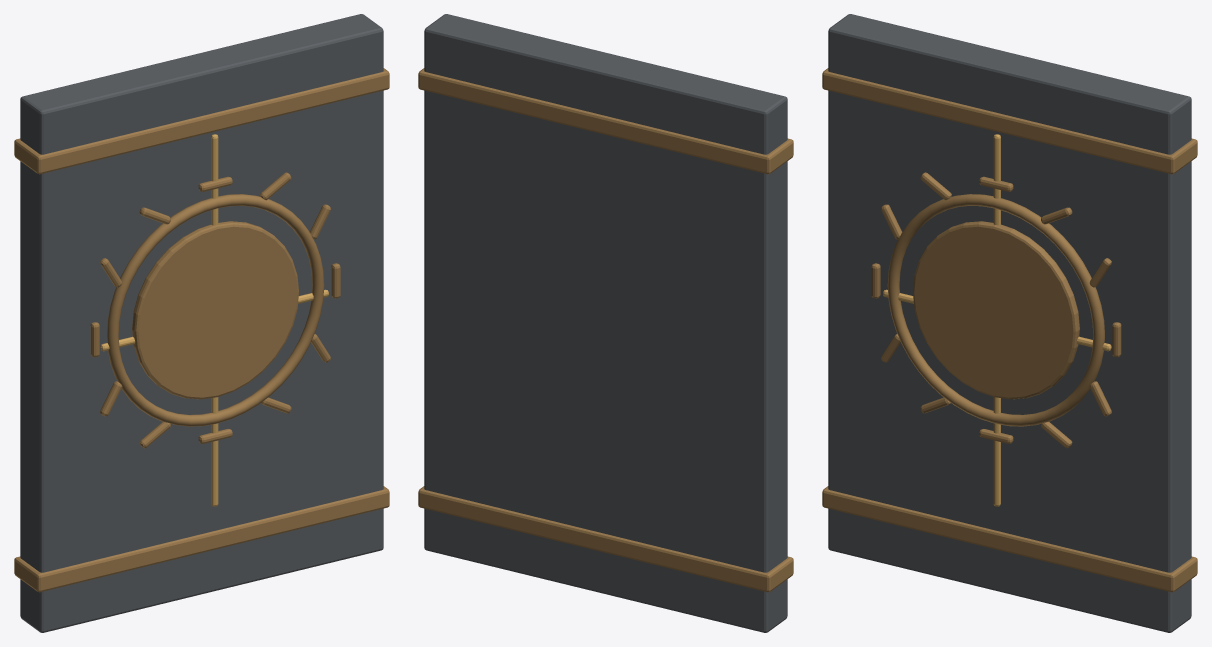
The model's file is door.glb.
3 renders of one model, left to right at view 1: azimuth 30°, elevation 25°; view 2: azimuth 150°, elevation 25°; view 3: azimuth 330°, elevation 25°, orthographic.
Parts seen in each view (by area): view 1: Door; view 2: Door; view 3: Door.
Boxes of the visible parts, bbox=[...] form: Door: bbox=[14, 14, 389, 632]; Door: bbox=[418, 14, 793, 632]; Door: bbox=[822, 14, 1197, 632].
Bounding box in the file's own units: 2.4 × 3.4 × 0.345.
